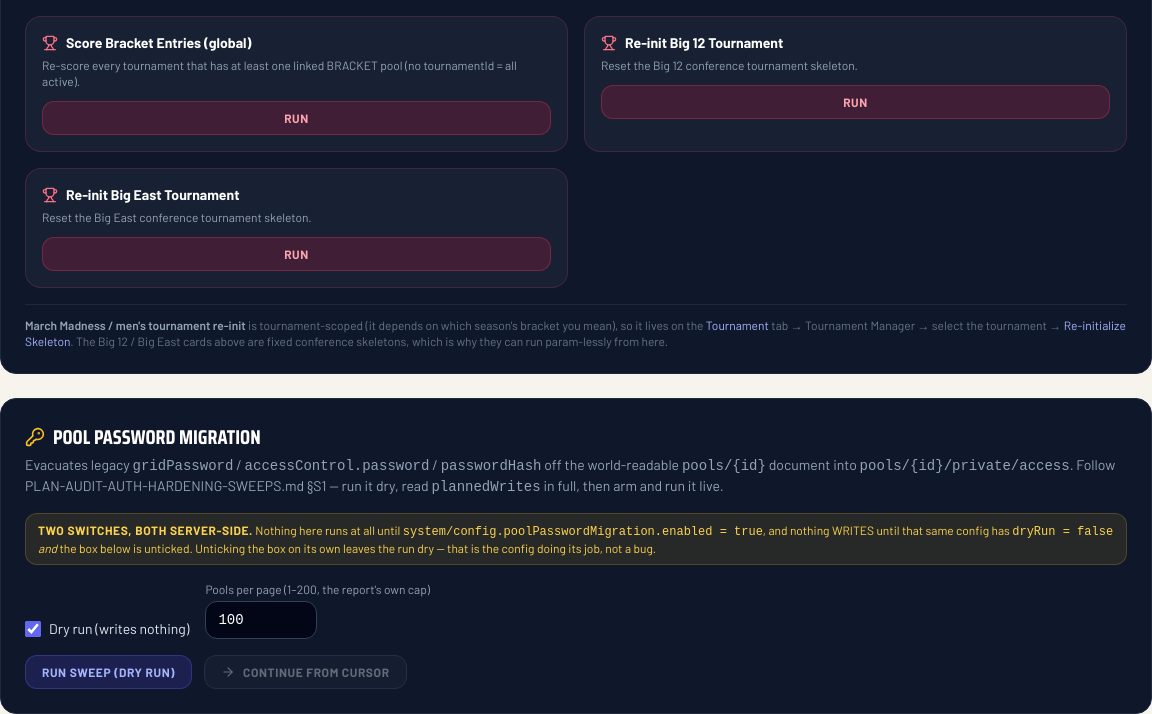
it: S1 — pool password migration control › refuses to page past a report that carries failures (codex r2 P1)
The width and height of the screenshot is (1152, 714).
(page scrolled)
Click the checkbox labelled "Dry run (writes nothing)" at (33, 629), box [25, 621, 41, 637]
(page scrolled)
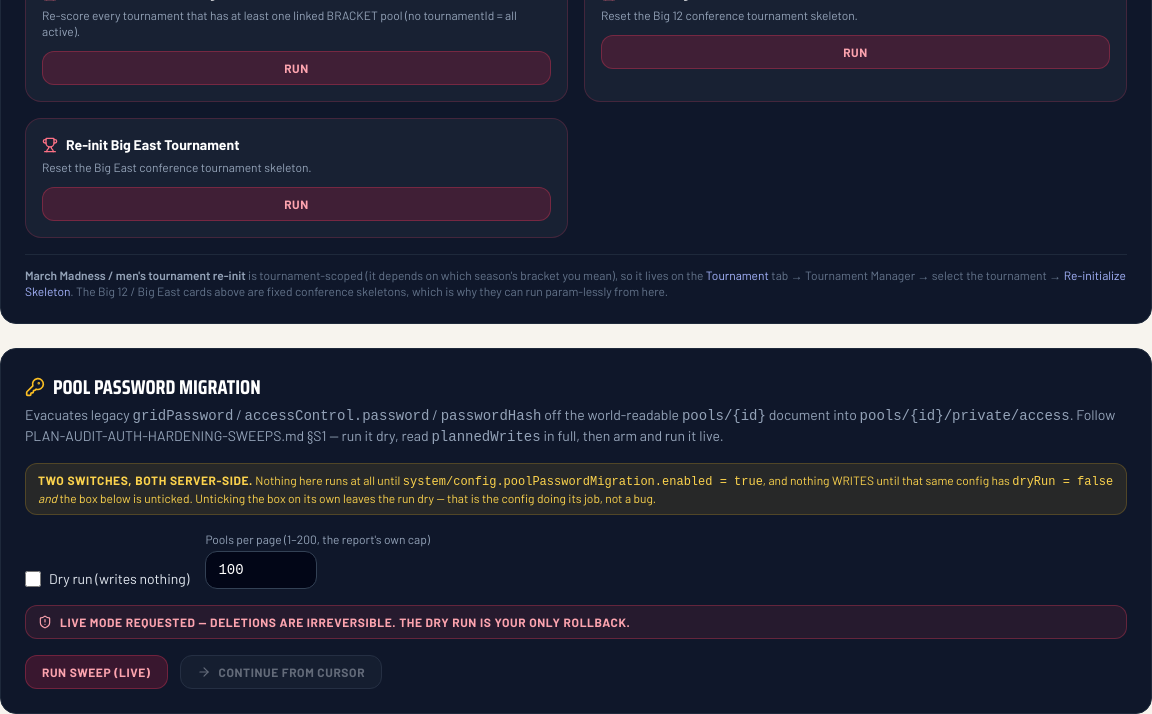
Click the button "Run sweep (LIVE)" at (96, 672), box [25, 655, 168, 689]
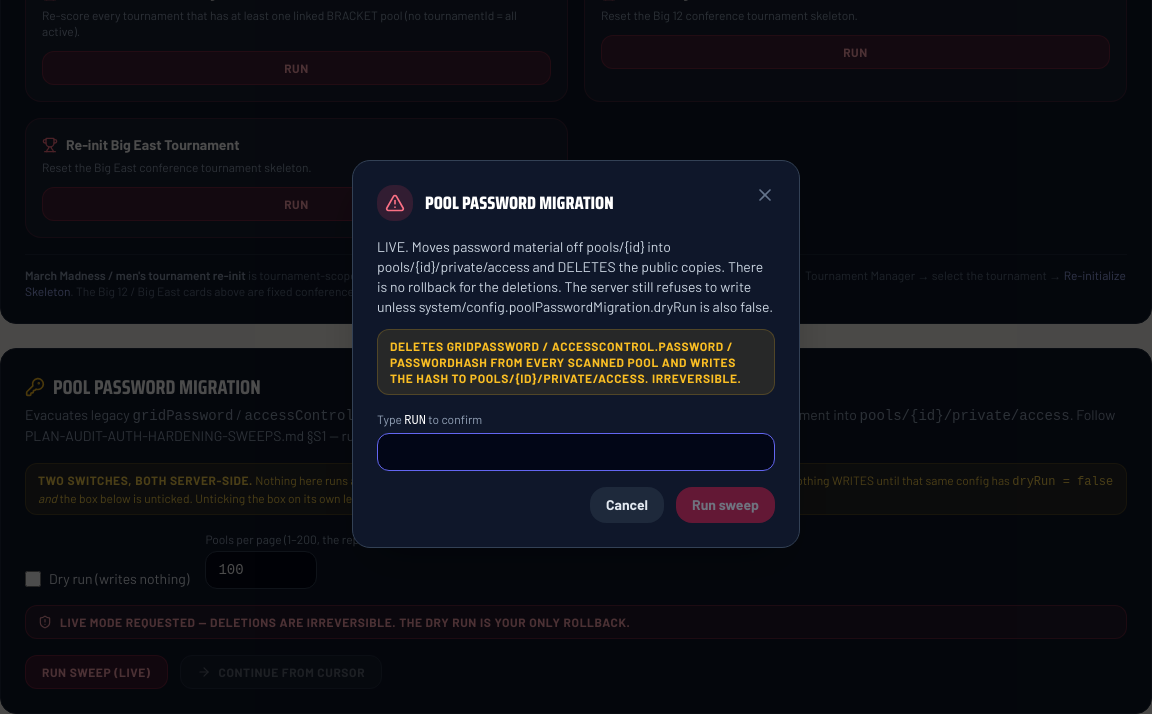
Type "RUN" into the field at (576, 452), box [377, 433, 775, 471]
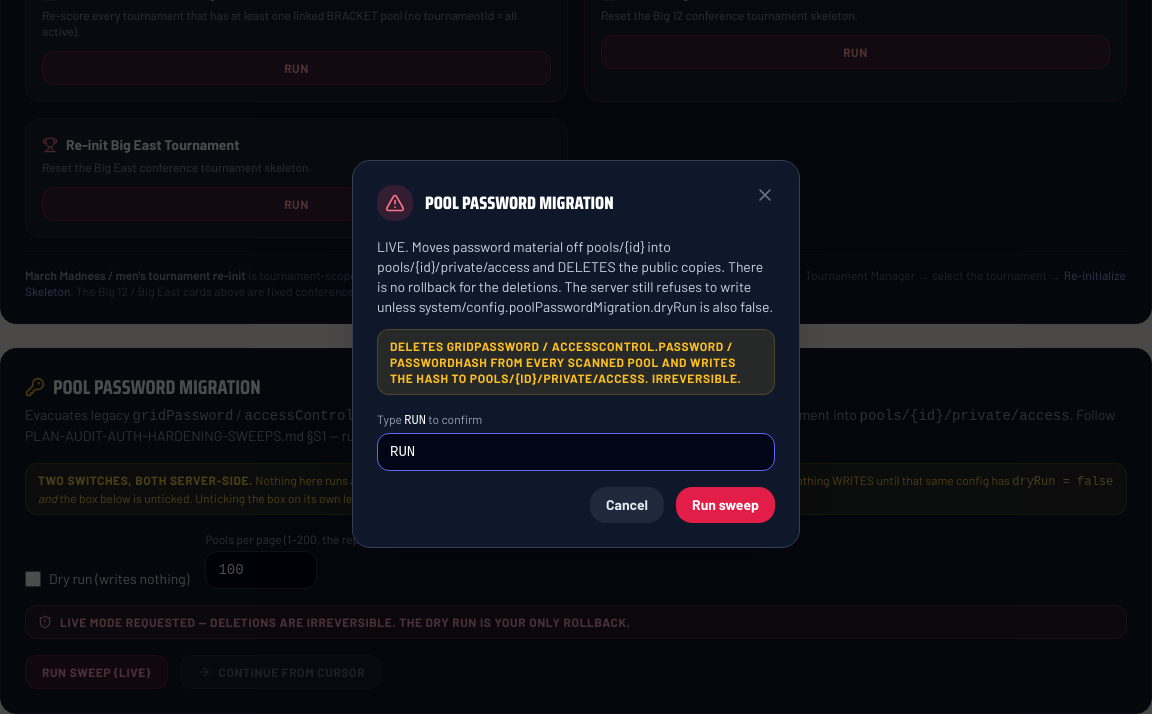
Click the button "Run sweep" at (726, 505), box [676, 487, 775, 523]
(page scrolled)
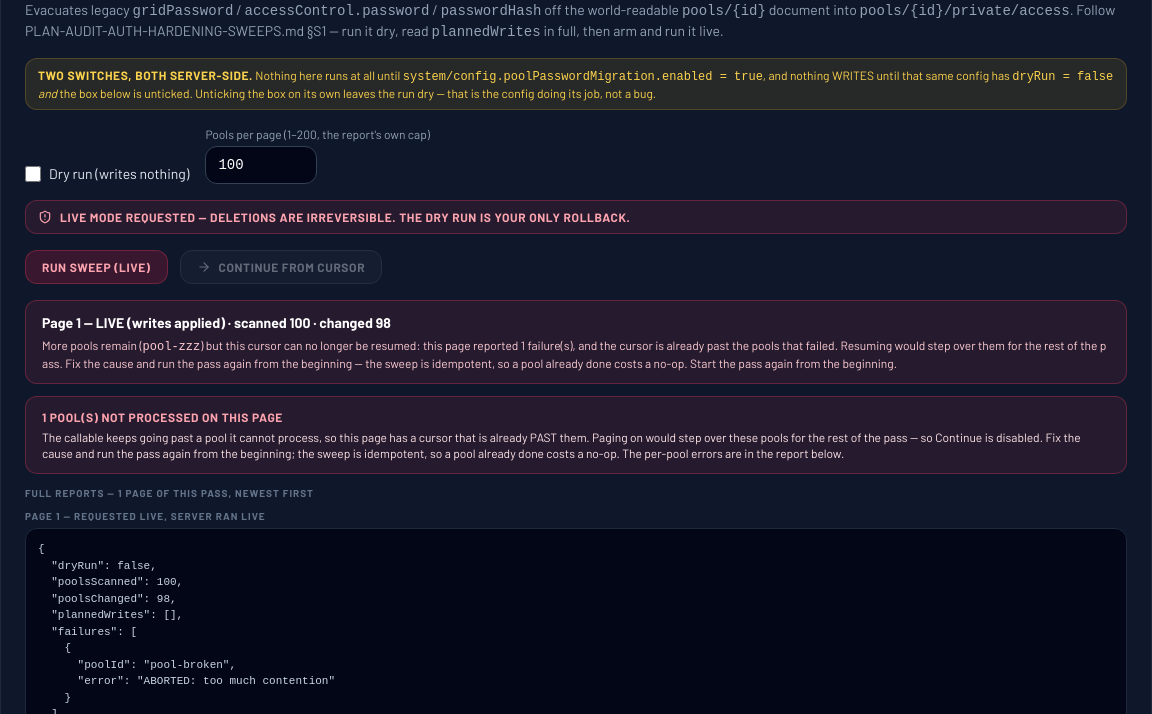
Expected: the button "Continue from cursor" is disabled, [180, 250, 382, 284]
Result: the element with test id "migration-failures" shows "1 pool(s) not processed" at [25, 396, 1127, 474]
Result: the element with test id "migration-cursor-stale" shows "already past the pools that failed" at [42, 338, 1106, 370]
